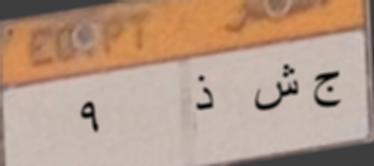9: (71, 97, 112, 138)
jeem: (309, 62, 345, 116)
sheen: (252, 60, 303, 123)
zaal: (190, 68, 222, 115)
